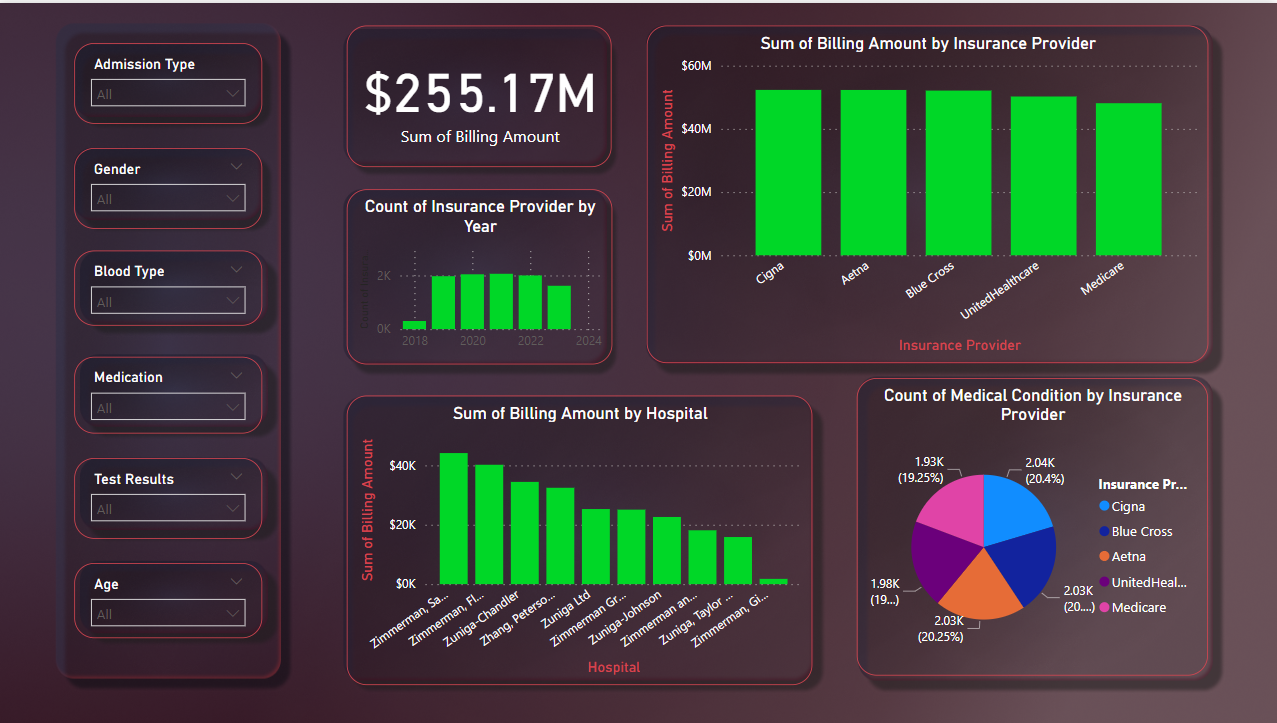

What the dashboard file says about the page in this screenshot:
{"tool":"powerbi","page":{"name":"Page 1","canvas":[1280,720],"ordinal":0},"visuals":[{"type":"slicer","fields":{"Values":["healthcare_dataset.Admission Type"]},"box":[76.8,39.8,188,81],"z":0},{"type":"slicer","fields":{"Values":["healthcare_dataset.Gender"]},"box":[76.8,145.5,188,81],"z":1000},{"type":"slicer","fields":{"Values":["healthcare_dataset.Blood Type"]},"box":[76.8,247,188,75.5],"z":2000},{"type":"slicer","fields":{"Values":["healthcare_dataset.Medication"]},"box":[76.8,354,188,76.8],"z":3000},{"type":"slicer","fields":{"Values":["healthcare_dataset.Test Results"]},"box":[76.8,455.6,188,81],"z":4000},{"type":"slicer","fields":{"Values":["healthcare_dataset.Age"]},"box":[76.8,559.9,188,75.5],"z":5000},{"type":"card","fields":{"Values":["healthcare_dataset.Billing Amount"]},"box":[348.5,22,264.8,141.3],"z":5001},{"type":"clusteredColumnChart","fields":{"Category":["healthcare_dataset.Insurance Provider"],"Y":["healthcare_dataset.Billing Amount"]},"box":[649.1,22,561.2,337.6],"z":5002},{"type":"clusteredColumnChart","fields":{"Y":["healthcare_dataset.Billing Amount"],"Category":["healthcare_dataset.Hospital"]},"box":[348.5,392,465.5,289.4],"z":5003},{"type":"pieChart","fields":{"Y":["healthcare_dataset.Medical Condition"],"Category":["healthcare_dataset.Insurance Provider"]},"box":[858.7,375.1,351,297.9],"z":5004},{"type":"columnChart","fields":{"Category":["healthcare_dataset.Date of Admission.Variation.Date Hierarchy.Year","healthcare_dataset.Date of Admission.Variation.Date Hierarchy.Month"],"Y":["healthcare_dataset.Insurance Provider"]},"box":[348.5,185.7,265.3,174.9],"z":5005}]}

Visuals, with their boxes in screenshot pixels (x1, y1, x2, y2), scaled from the page's 1280x720 canvas onto the 1277x723 screenshot:
slicer - healthcare_dataset.Admission Type: box=[77, 40, 264, 121]
slicer - healthcare_dataset.Gender: box=[77, 146, 264, 227]
slicer - healthcare_dataset.Blood Type: box=[77, 248, 264, 324]
slicer - healthcare_dataset.Medication: box=[77, 355, 264, 433]
slicer - healthcare_dataset.Test Results: box=[77, 457, 264, 539]
slicer - healthcare_dataset.Age: box=[77, 562, 264, 638]
card - healthcare_dataset.Billing Amount: box=[348, 22, 612, 164]
clusteredColumnChart - healthcare_dataset.Insurance Provider x healthcare_dataset.Billing Amount: box=[648, 22, 1207, 361]
clusteredColumnChart - healthcare_dataset.Billing Amount x healthcare_dataset.Hospital: box=[348, 394, 812, 684]
pieChart - healthcare_dataset.Medical Condition x healthcare_dataset.Insurance Provider: box=[857, 377, 1207, 676]
columnChart - healthcare_dataset.Date of Admission.Variation.Date Hierarchy.Year x healthcare_dataset.Date of Admission.Variation.Date Hierarchy.Month: box=[348, 186, 612, 362]
